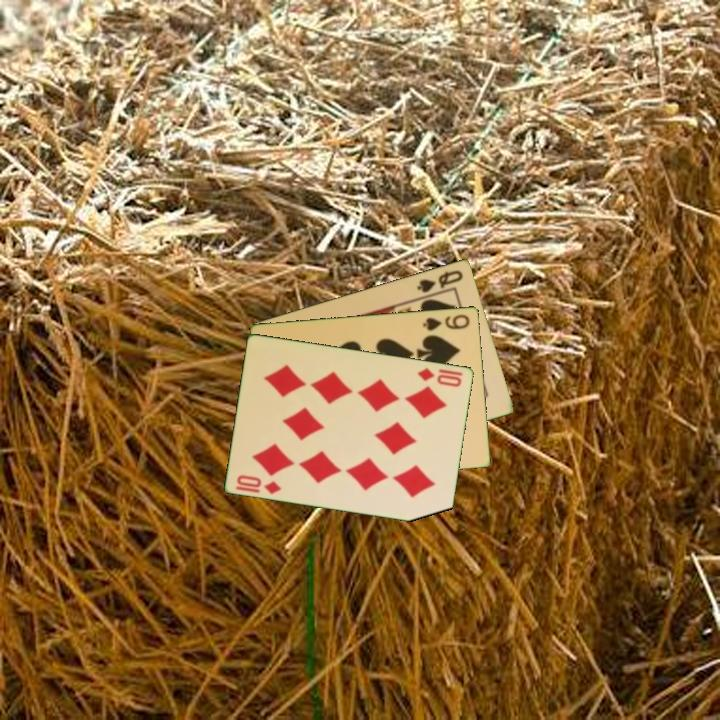10d: (233, 471, 284, 497), (414, 364, 466, 389)
9s: (420, 310, 472, 333)
Qs: (414, 266, 466, 295)
